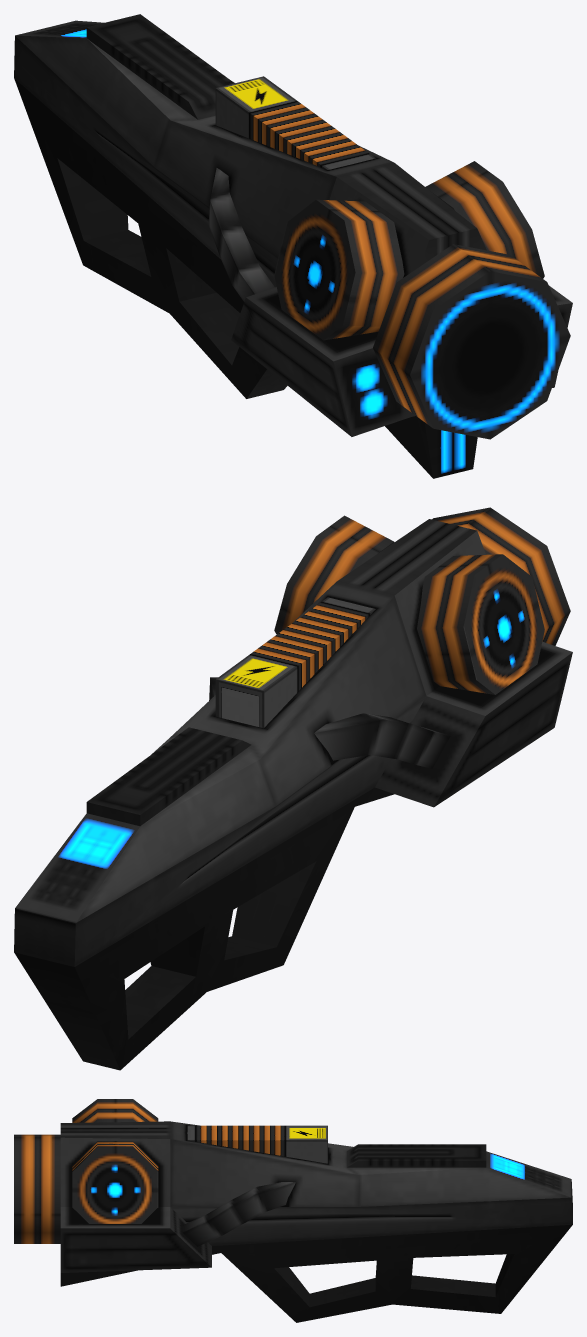
Rendered from TeslaCannon.fbx.
3 renders of one model, top to bottom at view 1: azimuth 30°, elevation 25°; view 2: azimuth 150°, elevation 25°; view 3: azimuth 270°, elevation 25°, orthographic. The views are drawn at different scales.
Parts seen in each view (by area): view 1: TeslaCannon, BatteryPack; view 2: TeslaCannon, BatteryPack; view 3: TeslaCannon, BatteryPack.
Boxes of the visible parts, box(x1,y1,x2,y2) form: TeslaCannon: box(14, 14, 572, 478); BatteryPack: box(215, 76, 375, 169); TeslaCannon: box(14, 507, 572, 1070); BatteryPack: box(215, 597, 375, 728); TeslaCannon: box(14, 1099, 572, 1322); BatteryPack: box(187, 1125, 327, 1163).
Bounding box in the file's own units: 447 × 552 × 1441.
